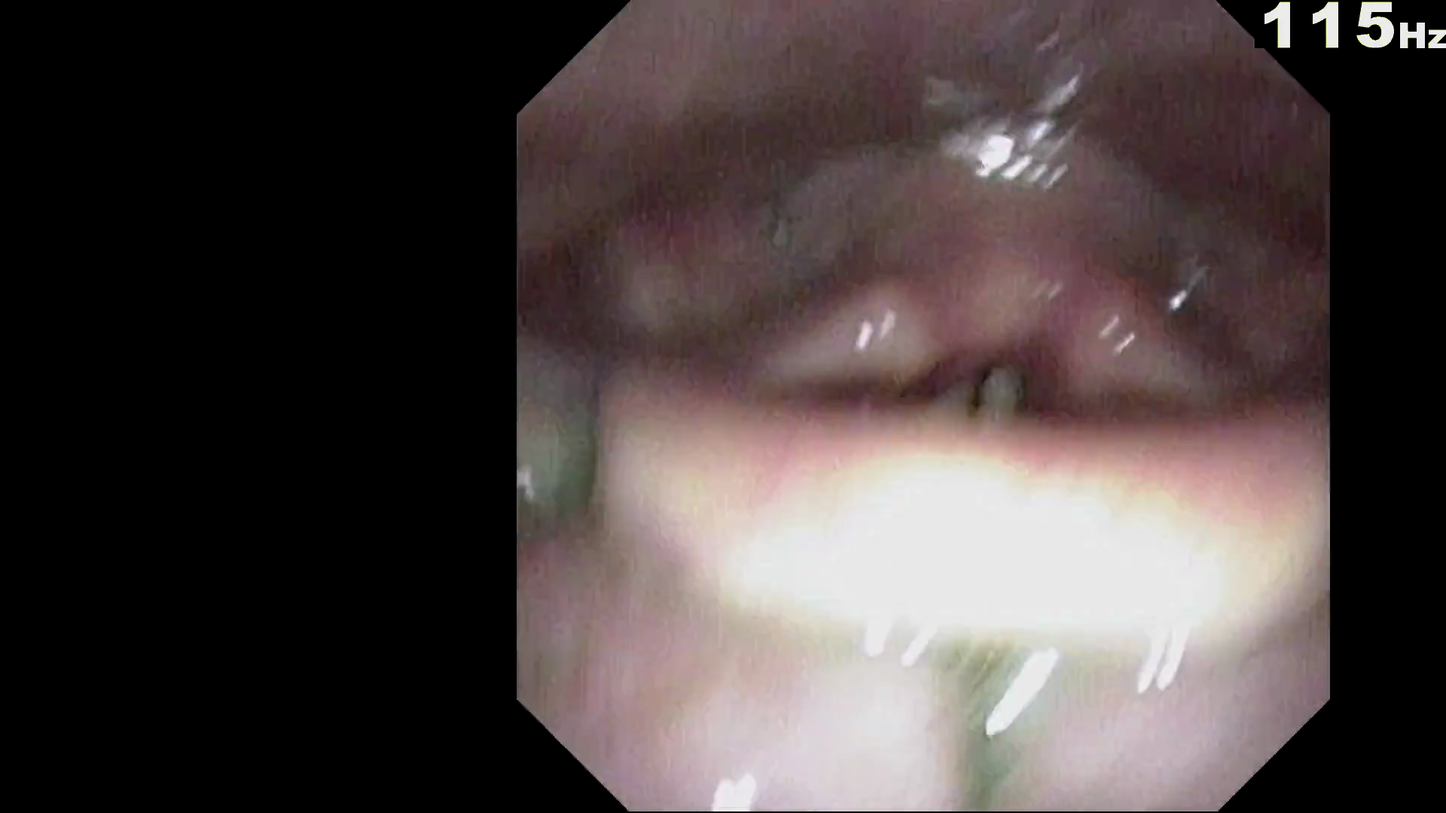epiglottis: (694, 378, 1318, 598)
trachea: (925, 351, 1057, 498)
